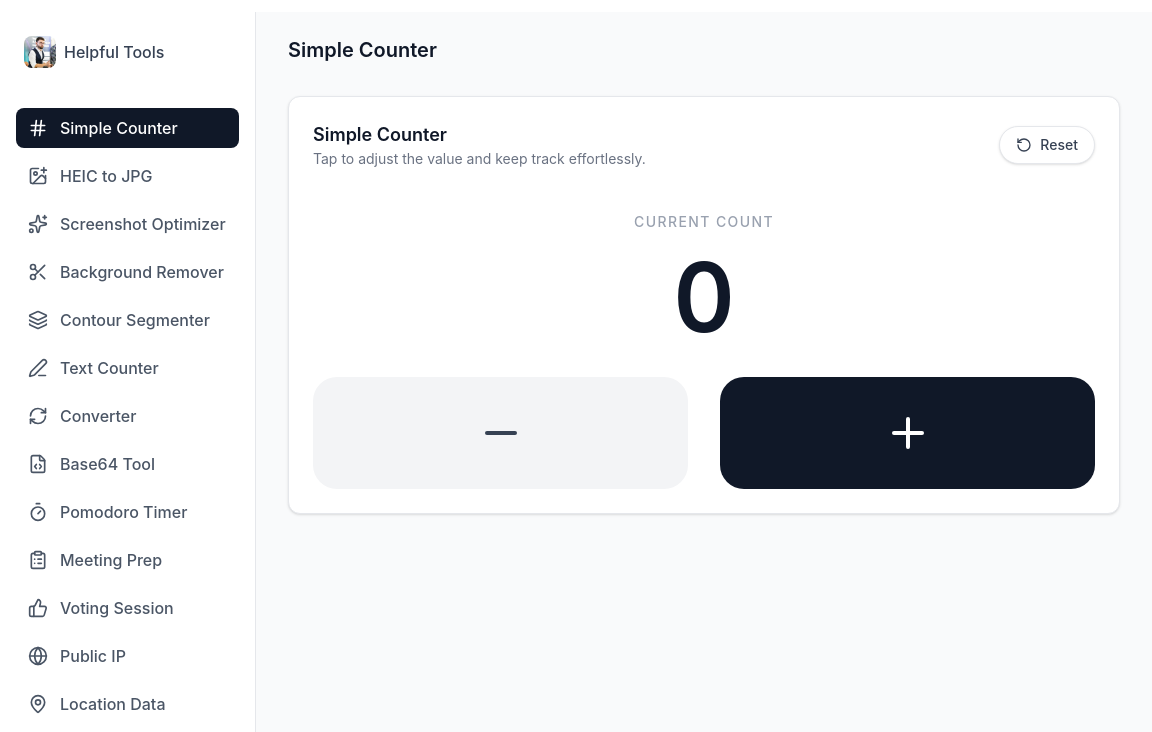
App › renders Meeting Prep Assistant when selecting Meeting Prep
Click the button "Meeting Prep" at {"x": 128, "y": 560}, box [16,540,239,580]
(page scrolled)
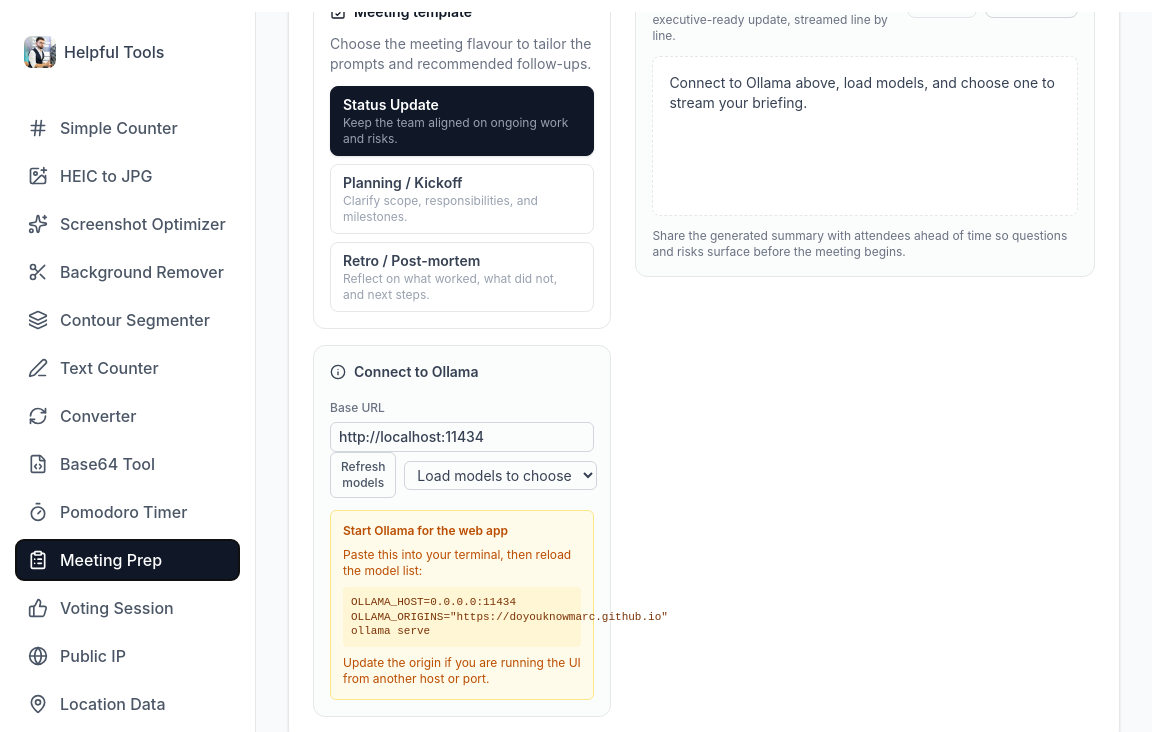
Check: the text "Connect to Ollama" is shown, box [354,362,478,382]
